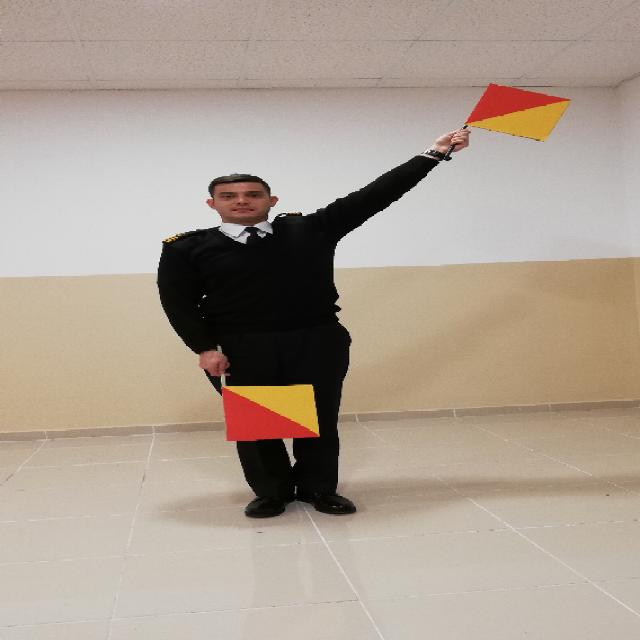E: (88, 80, 584, 534)
